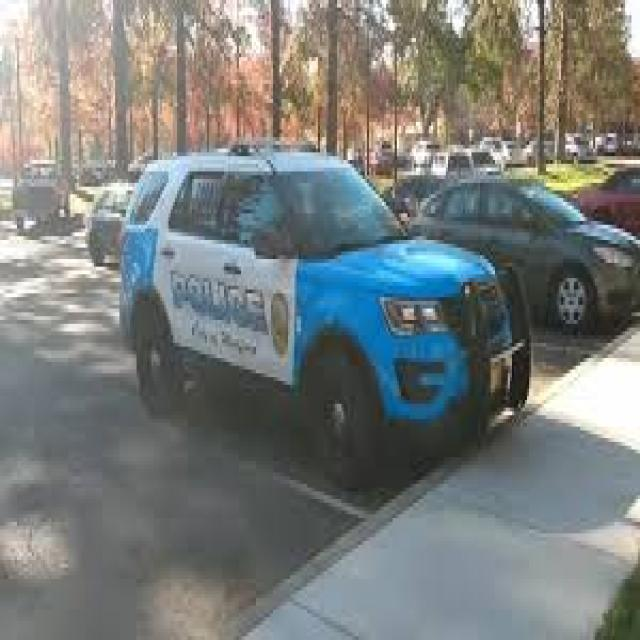cop: (120, 139, 532, 482)
